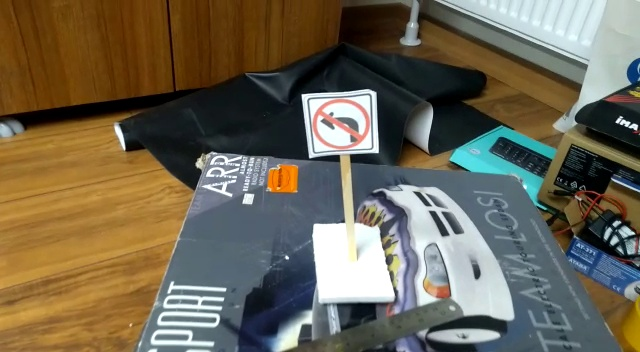sola_donulmez: (307, 95, 374, 153)
